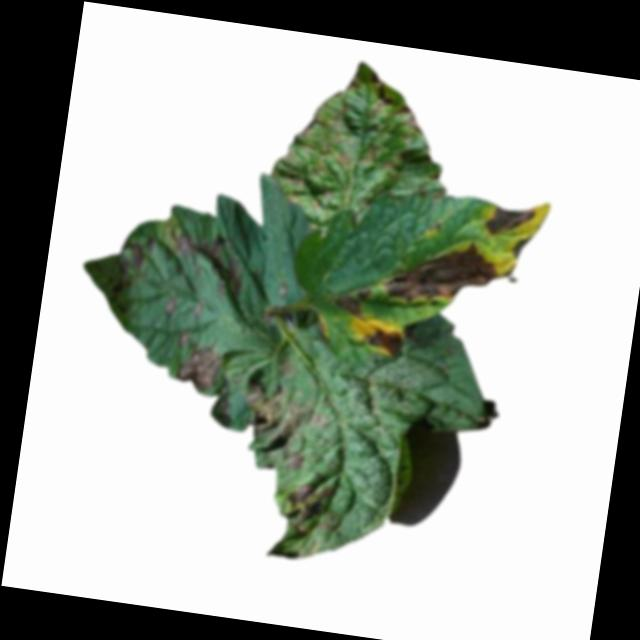Early_blight: (381, 229, 504, 318), (233, 383, 322, 474), (159, 224, 253, 305), (281, 478, 339, 536), (174, 342, 224, 398), (483, 200, 536, 241), (367, 319, 408, 363), (363, 71, 397, 121), (333, 283, 374, 321), (125, 233, 158, 271), (390, 104, 428, 134), (511, 235, 530, 261)
